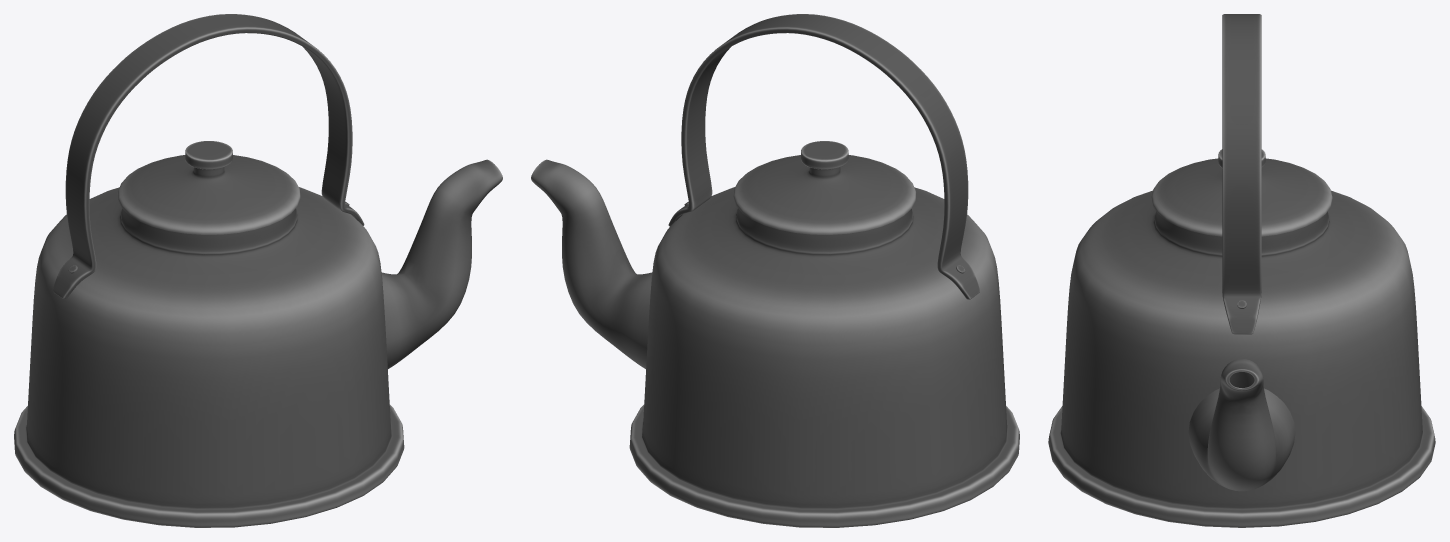
Rendered from teapot.obj.
The picture shows the model from 3 angles, left to right: view 1: azimuth 30°, elevation 25°; view 2: azimuth 150°, elevation 25°; view 3: azimuth 270°, elevation 25°; orthographic projection.
Visible parts, largest first — view 1: teapot_Circle.002; view 2: teapot_Circle.002; view 3: teapot_Circle.002.
Part boxes in pixels (left/top/right/bottom): teapot_Circle.002: left=14, top=14, right=502, bottom=527; teapot_Circle.002: left=531, top=14, right=1019, bottom=527; teapot_Circle.002: left=1048, top=14, right=1435, bottom=527.
Bounding box in the file's own units: 0.2467 × 0.2179 × 0.1826.
Materials: 1 (1 with a texture image).
